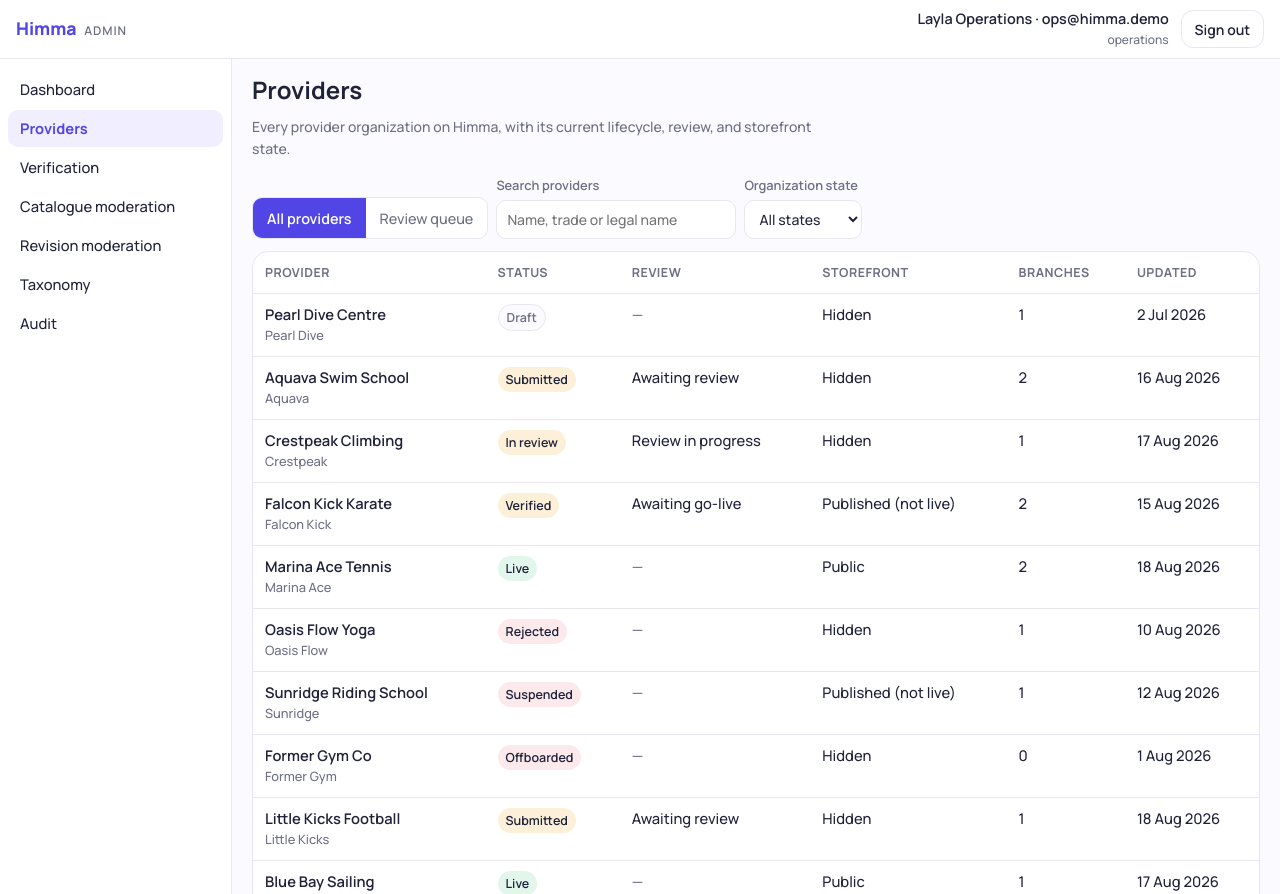
Test case: review queue (task §23, §9) › the queue view asks the server for needsReview=true and shows EXACTLY the states needing Himma action
The width and height of the screenshot is (1280, 894).
Check: the link "Marina Ace Tennis" is shown, box 265,556 -> 392,576
Click the button "Review queue" at [426, 218], box 366,198 -> 487,238
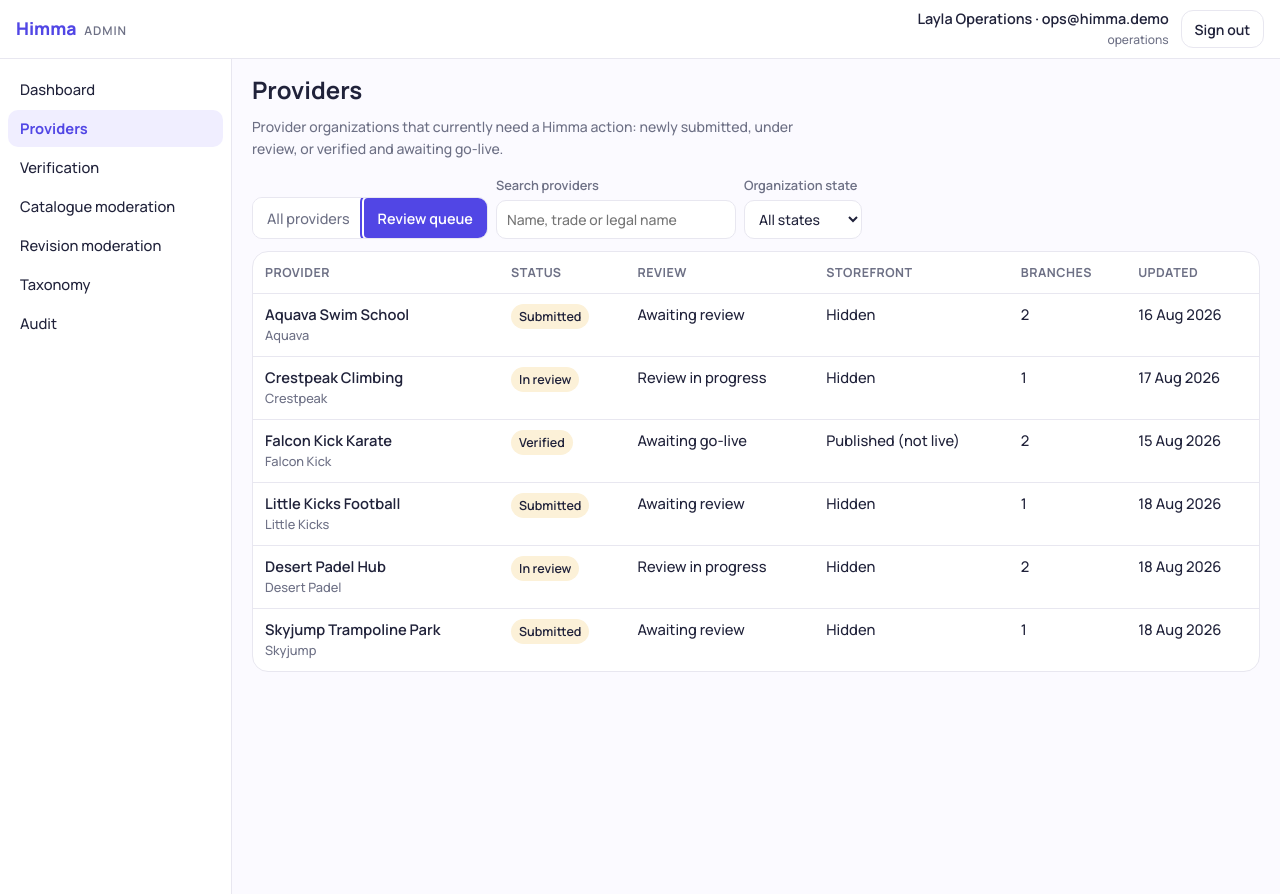
Check: the link "Desert Padel Hub" is shown, box 265,556 -> 386,576
Check: the link "Skyjump Trampoline Park" is shown, box 265,619 -> 440,639
Check: the link "Pearl Dive Centre" is gone
